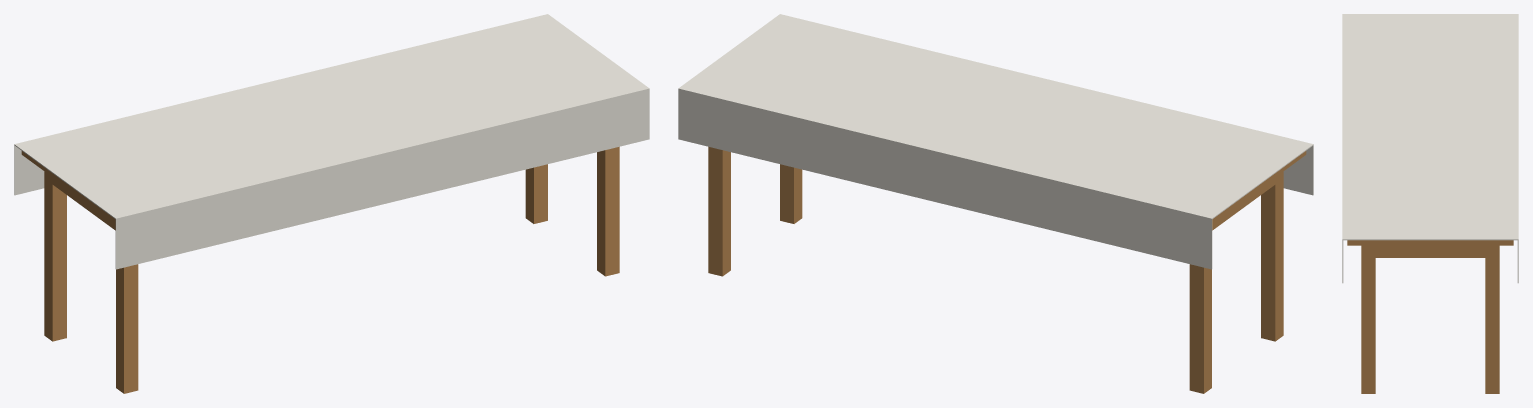
The picture shows the model from 3 angles, left to right: view 1: azimuth 30°, elevation 25°; view 2: azimuth 150°, elevation 25°; view 3: azimuth 270°, elevation 25°; orthographic projection. The views are drawn at different scales.
Parts seen in each view (by area): view 1: parametric-variant-table-2nd-pub-35baad8d8f52f9be438d; view 2: parametric-variant-table-2nd-pub-35baad8d8f52f9be438d; view 3: parametric-variant-table-2nd-pub-35baad8d8f52f9be438d.
Boxes of the visible parts, x1,y1,x2,y2 form: parametric-variant-table-2nd-pub-35baad8d8f52f9be438d: (14,14,649,393); parametric-variant-table-2nd-pub-35baad8d8f52f9be438d: (678,14,1313,393); parametric-variant-table-2nd-pub-35baad8d8f52f9be438d: (1342,14,1518,393).
Bounding box in the file's own units: 2.24 × 0.754 × 0.74.
